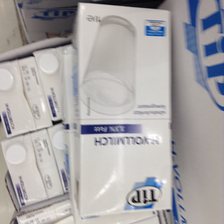milk: (76, 3, 175, 216)
